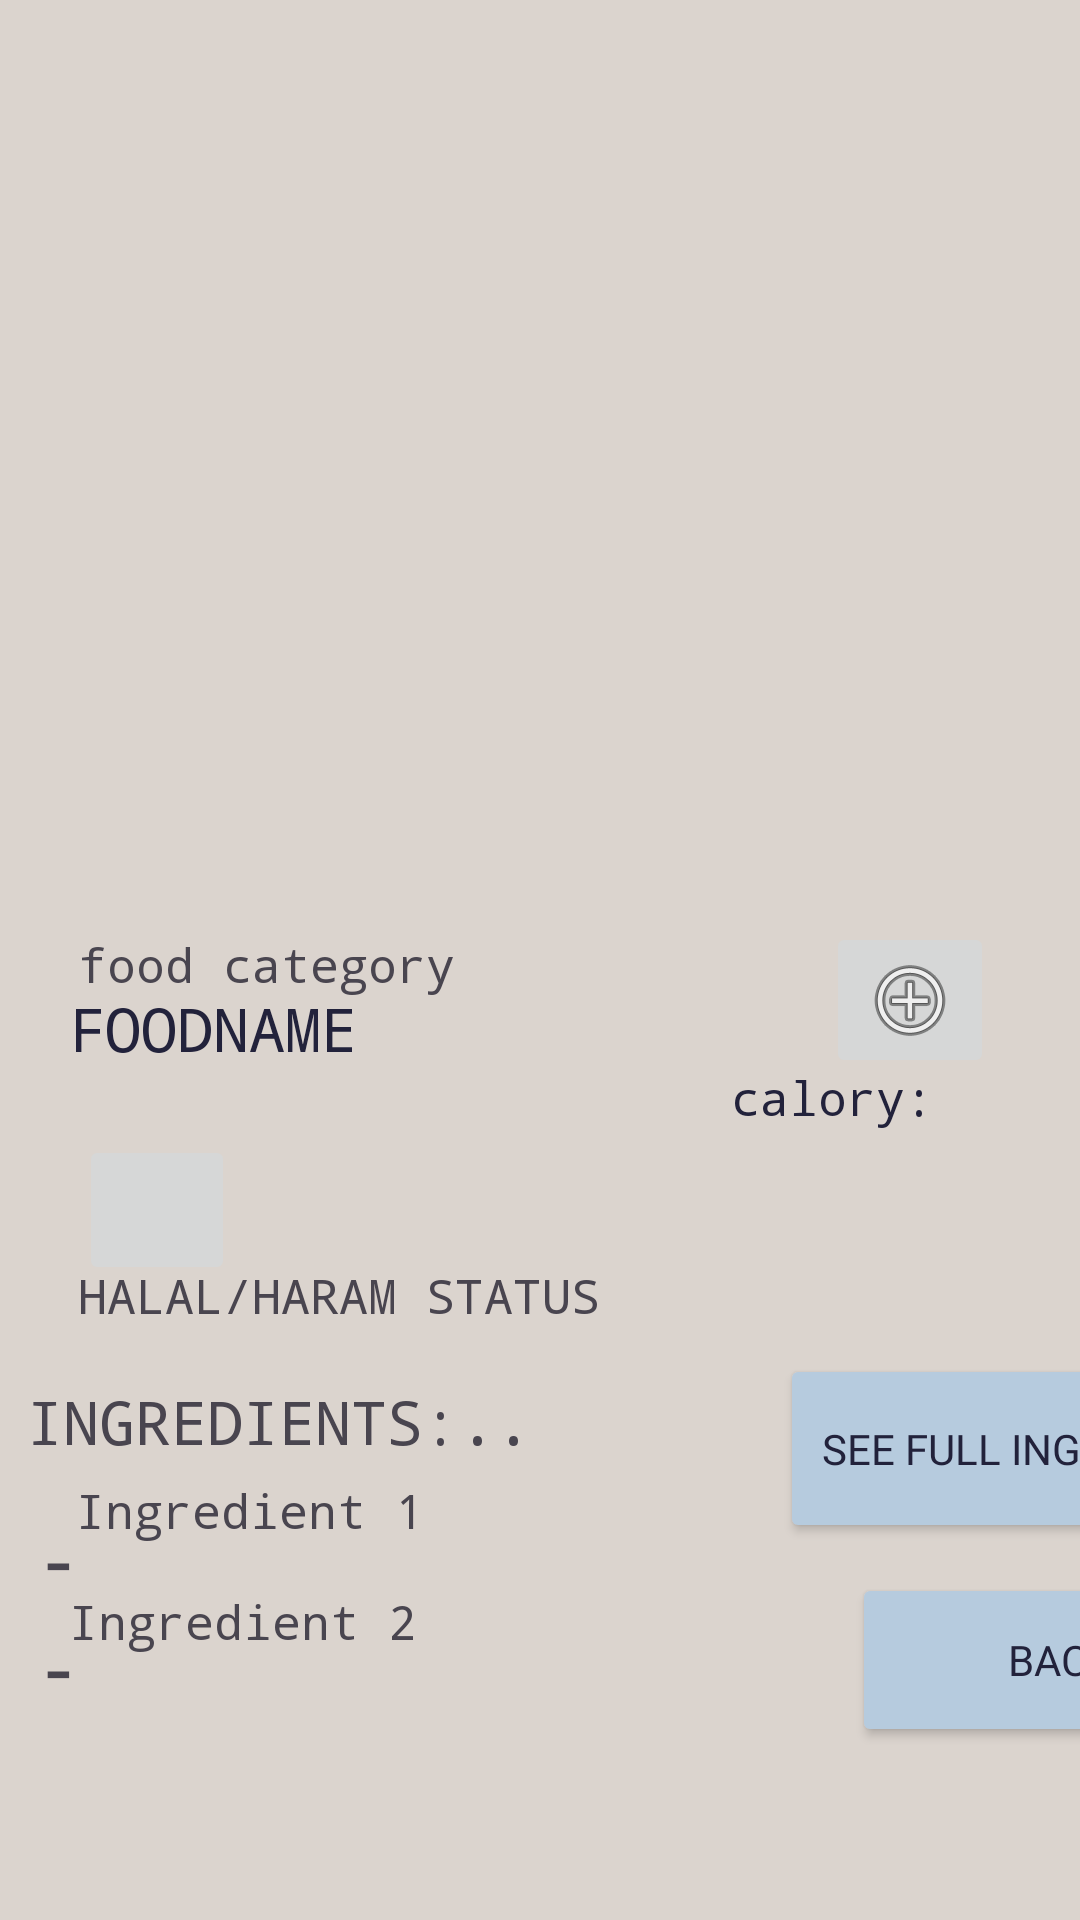

Icon click points for this 1080w x 1920h phone screenshot, format (x=x, y=y):
add: (x=910, y=1000)
